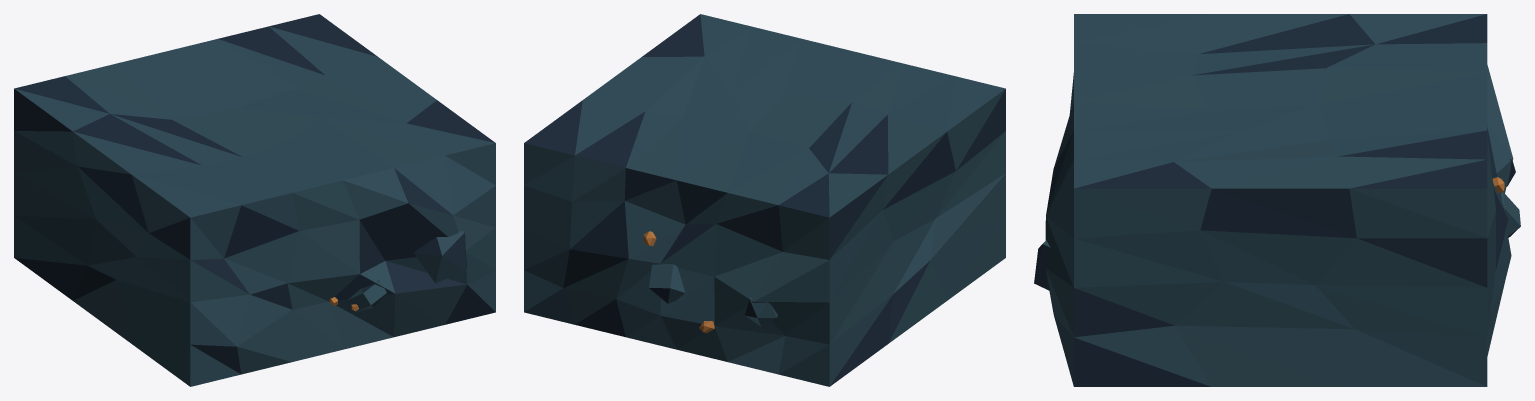
The model's file is Kit_Rock_FloodedCaverns.fbx.
3 views of the same model, side by side, from view 1: azimuth 30°, elevation 25°; view 2: azimuth 150°, elevation 25°; view 3: azimuth 270°, elevation 25° (orthographic). The views are drawn at different scales.
Parts seen in each view (by area): view 1: Rock, Decor; view 2: Rock, Decor; view 3: Rock, Decor.
Part boxes in pixels (x1,y1,x2,y2): Rock: [14, 14, 495, 386]; Decor: [329, 231, 466, 312]; Rock: [524, 14, 1005, 386]; Decor: [643, 231, 777, 333]; Rock: [1045, 14, 1513, 386]; Decor: [1034, 157, 1520, 290].
Bounding box in the file's own units: 34 × 18 × 40.05.
